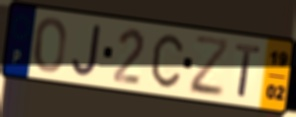2: (111, 26, 147, 88)
C: (150, 32, 185, 90)
J: (70, 22, 104, 79)
O: (33, 16, 68, 75)
T: (233, 42, 263, 100)
Z: (189, 35, 232, 100)
